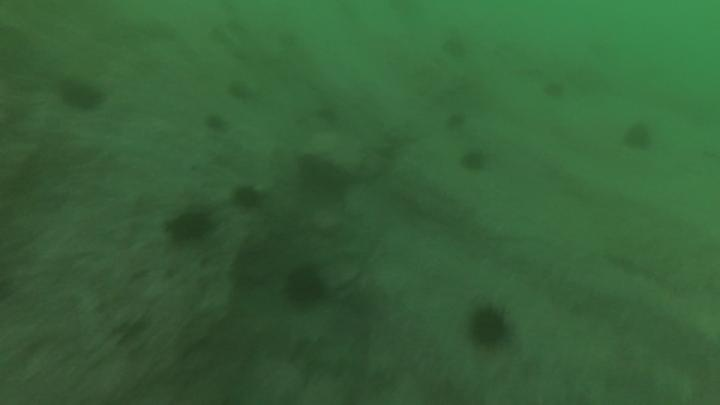echinus: (295, 153, 348, 200), (466, 303, 512, 351), (282, 265, 327, 309), (164, 208, 215, 245), (57, 76, 105, 113), (620, 121, 655, 154), (230, 183, 265, 213), (440, 32, 471, 62), (458, 148, 489, 175), (225, 78, 255, 104), (202, 111, 230, 136), (540, 78, 568, 102), (443, 109, 469, 133)
